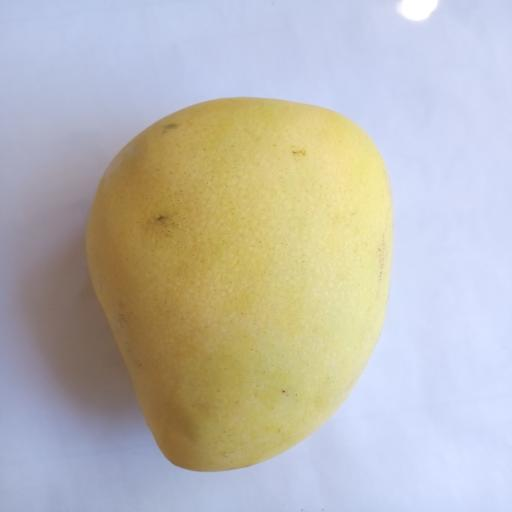mango-ripe: (60, 76, 414, 494)
